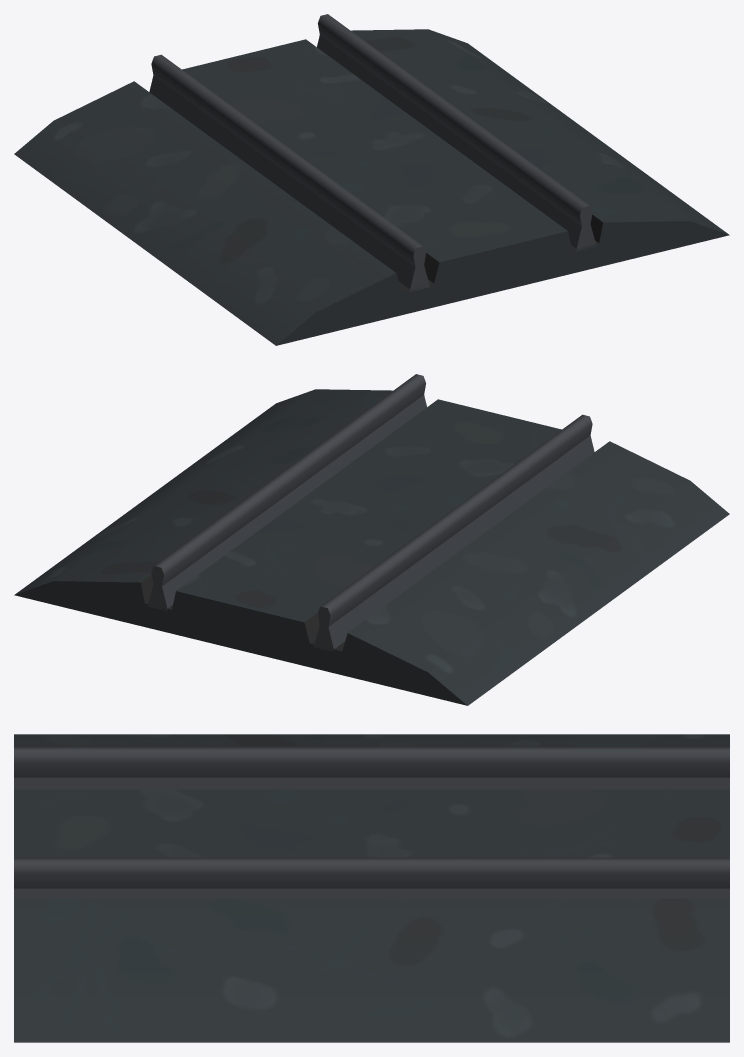
Rendered from Railroad_E02.fbx.
3 renders of one model, top to bottom at view 1: azimuth 30°, elevation 25°; view 2: azimuth 150°, elevation 25°; view 3: azimuth 270°, elevation 25°, orthographic. The views are drawn at different scales.
Parts seen in each view (by area): view 1: Railroad_E02; view 2: Railroad_E02; view 3: Railroad_E02.
Boxes of the visible parts, left/top/right/bottom form: Railroad_E02: left=14, top=14, right=729, bottom=345; Railroad_E02: left=14, top=374, right=729, bottom=705; Railroad_E02: left=14, top=734, right=729, bottom=1042.
Bounding box in the file's own units: 400 × 53.47 × 400.
Materials: 1 (1 with a texture image).
